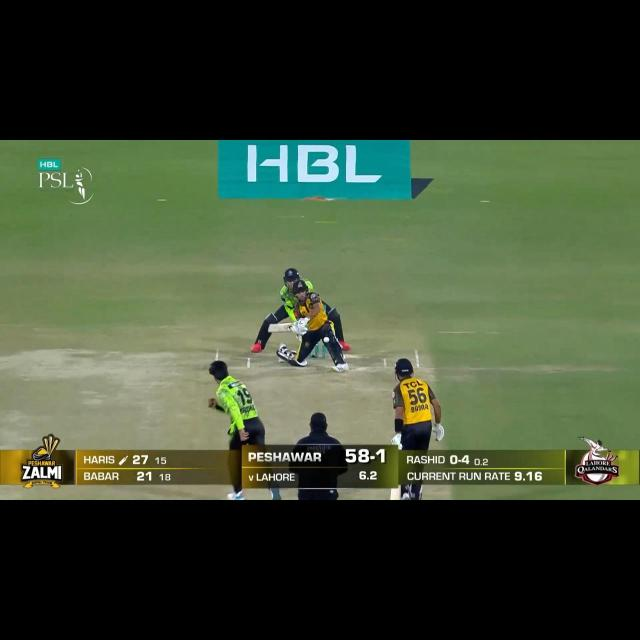bat: (265, 323, 293, 332), (389, 486, 404, 500)
toe: (389, 492, 401, 500), (269, 324, 280, 332)
